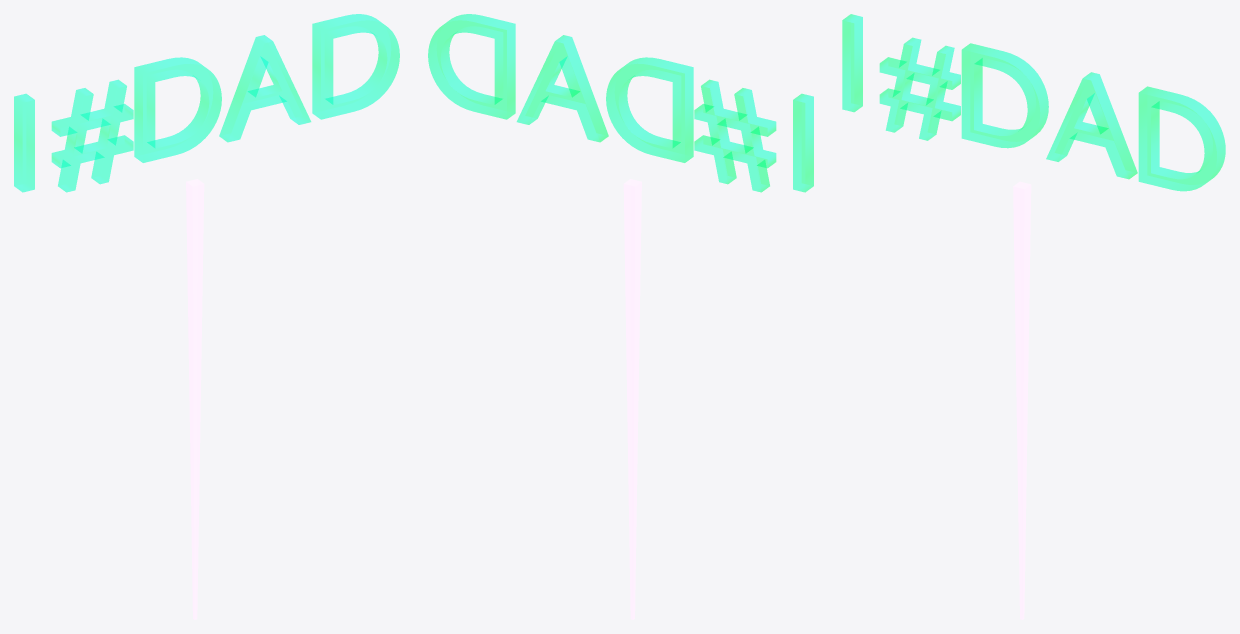
The model's file is Dad.glb.
The picture shows the model from 3 angles, left to right: view 1: azimuth 30°, elevation 25°; view 2: azimuth 150°, elevation 25°; view 3: azimuth 330°, elevation 25°; orthographic projection.
Parts seen in each view (by area): view 1: Text, Cube; view 2: Text, Cube; view 3: Text, Cube.
Part boxes in pixels (x1,y1,x2,y2): Text: (14,14,399,192); Cube: (186,179,204,619); Text: (428,14,813,192); Cube: (623,179,641,619); Text: (842,14,1225,191); Cube: (1013,181,1031,619).
Size of the model in its own units: 3 by 4.28 by 0.12.
